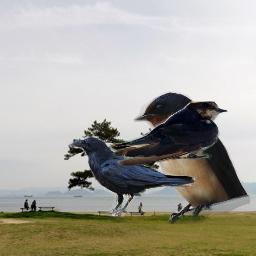Crow: (67, 136, 197, 218)
Swallow: (134, 91, 250, 224), (111, 101, 228, 166)
